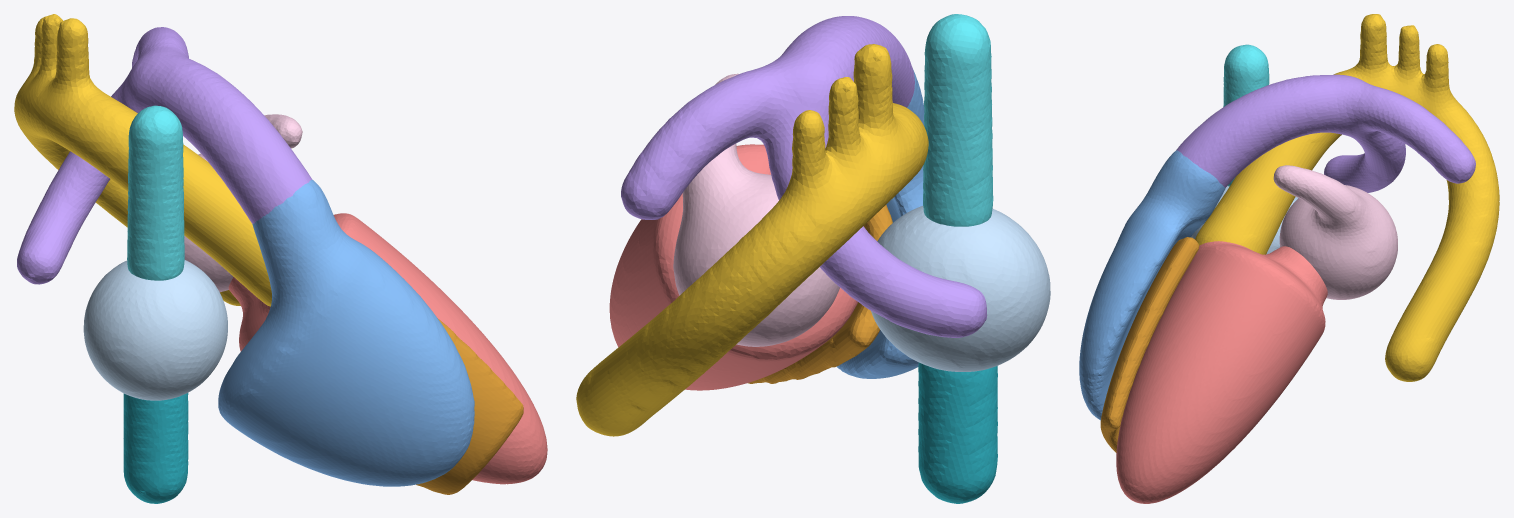
File: heart_chambers.glb
3 views of the same model, side by side, from view 1: azimuth 30°, elevation 25°; view 2: azimuth 150°, elevation 25°; view 3: azimuth 270°, elevation 25° (orthographic). The views are drawn at different scales.
Visible parts, largest first — view 1: RV, PA, Aorta, RA, LV, SVC, IVC, IVS, LA; view 2: Aorta, PA, RA, SVC, LV, LA, IVC, IVS, RV; view 3: LV, Aorta, PA, RV, LA, IVS, SVC.
Part boxes in pixels (box(x1,y1,x2,y2)): RV: box(218, 179, 474, 486); PA: box(17, 27, 312, 284); Aorta: box(14, 14, 271, 306); RA: box(83, 260, 227, 400); LV: box(228, 213, 547, 484); SVC: box(127, 105, 184, 280); IVC: box(123, 393, 188, 503); IVS: box(416, 319, 523, 494); LA: box(184, 114, 302, 292); Aorta: box(576, 44, 928, 436); PA: box(621, 16, 987, 337); RA: box(871, 206, 1050, 371); SVC: box(923, 14, 993, 226); LV: box(609, 144, 858, 390); LA: box(673, 73, 839, 346); IVC: box(918, 362, 997, 503); IVS: box(748, 205, 892, 383); RV: box(837, 69, 924, 378); LV: box(1116, 241, 1327, 503); Aorta: box(1195, 14, 1499, 381); PA: box(1176, 74, 1475, 192); RV: box(1079, 150, 1225, 420); LA: box(1273, 165, 1397, 299); IVS: box(1100, 237, 1199, 452); SVC: box(1223, 44, 1269, 186).
Size of the model in its own units: 135 by 139 by 145.
